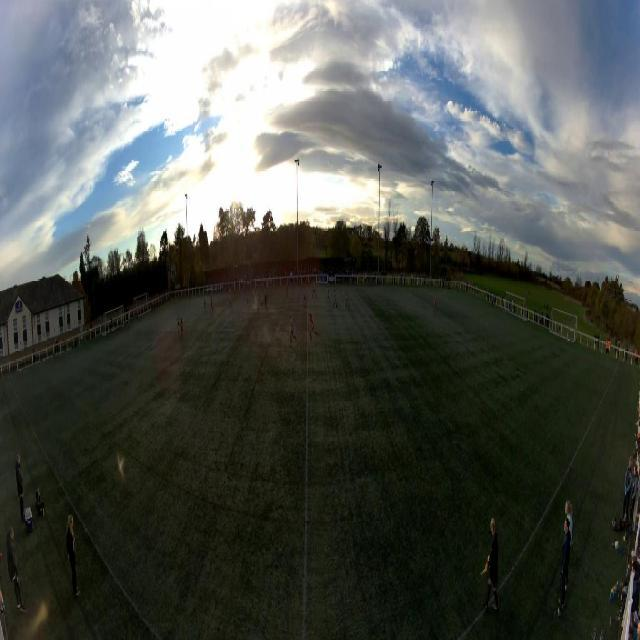player: (308, 314, 318, 338), (289, 314, 296, 346), (332, 289, 337, 309), (180, 318, 184, 340), (346, 289, 350, 310), (433, 293, 437, 311), (177, 312, 180, 334), (312, 282, 316, 298), (258, 292, 262, 308), (327, 282, 330, 302), (264, 293, 267, 310), (246, 291, 249, 307), (303, 292, 306, 308), (128, 313, 131, 329), (229, 294, 232, 309), (204, 296, 206, 312), (210, 294, 212, 310), (286, 282, 288, 296), (234, 284, 236, 296), (267, 283, 269, 295), (243, 284, 245, 296)
